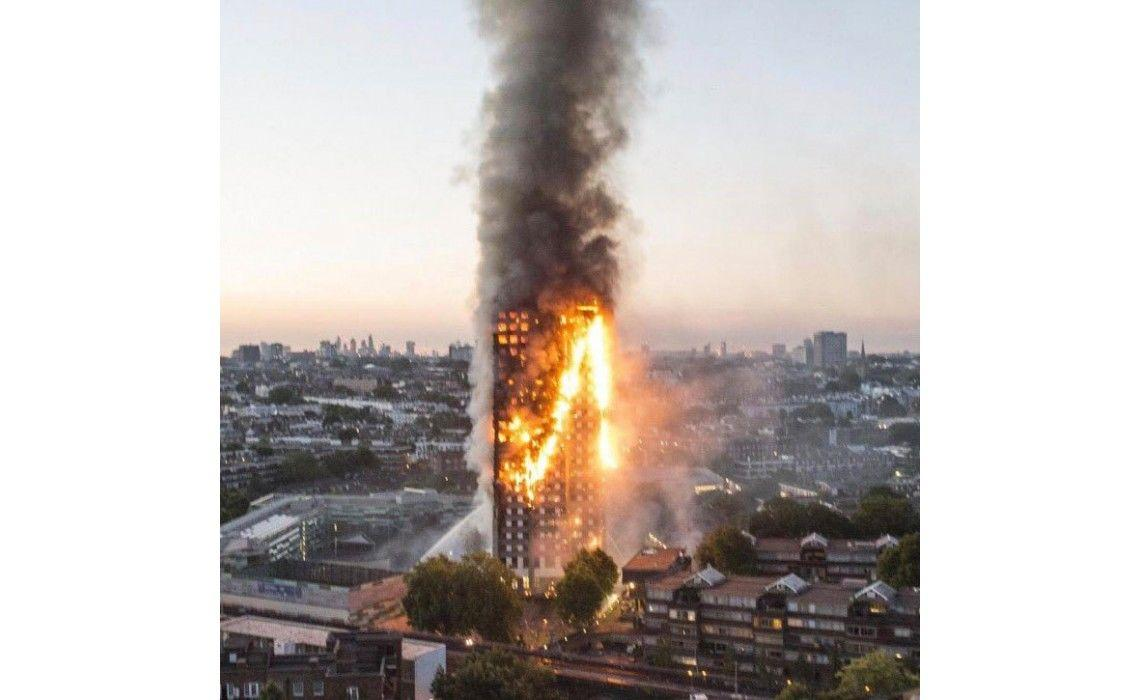Fire: (489, 273, 618, 555)
